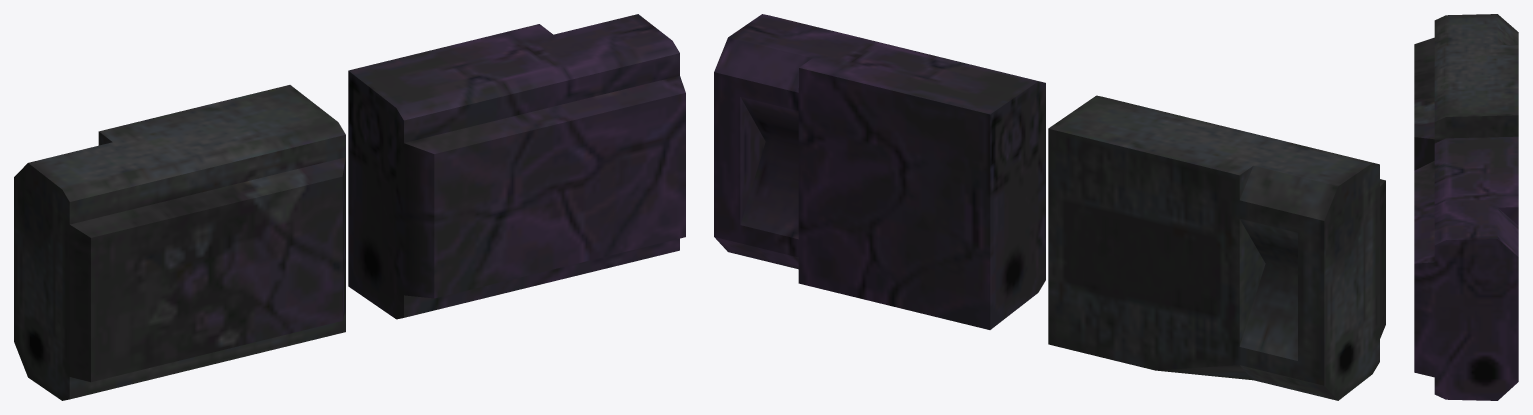
3 renders of one model, left to right at view 1: azimuth 30°, elevation 25°; view 2: azimuth 150°, elevation 25°; view 3: azimuth 270°, elevation 25°, orthographic. The views are drawn at different scales.
Visible parts, largest first — view 1: set_0_group_0; view 2: set_0_group_0; view 3: set_0_group_0.
Boxes of the visible parts, bbox=[...] form: set_0_group_0: bbox=[14, 14, 685, 400]; set_0_group_0: bbox=[714, 14, 1385, 400]; set_0_group_0: bbox=[1414, 14, 1518, 400].
Bounding box in the file's own units: 0.5112 × 0.1727 × 0.1005.
Materials: 1 (1 with a texture image).
